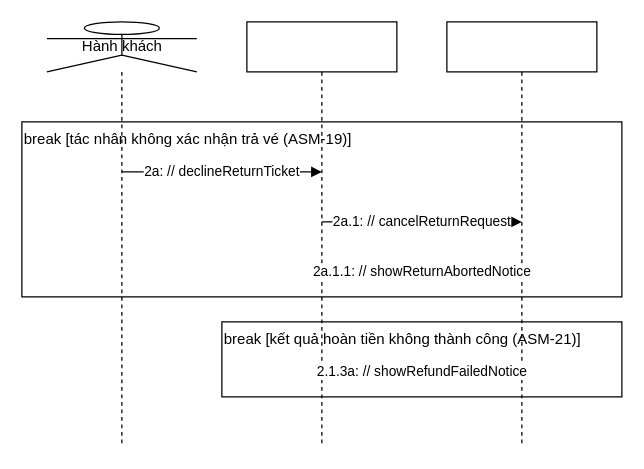
The diagram is 644 pixels wide and 469 high, and some of its shapes have lost their labels. The centre of each missing label's shape, as x and y in pixels:
":ReturnTicketController" goes at point 521,234.
":ReturnTicketForm" goes at point 321,234.
